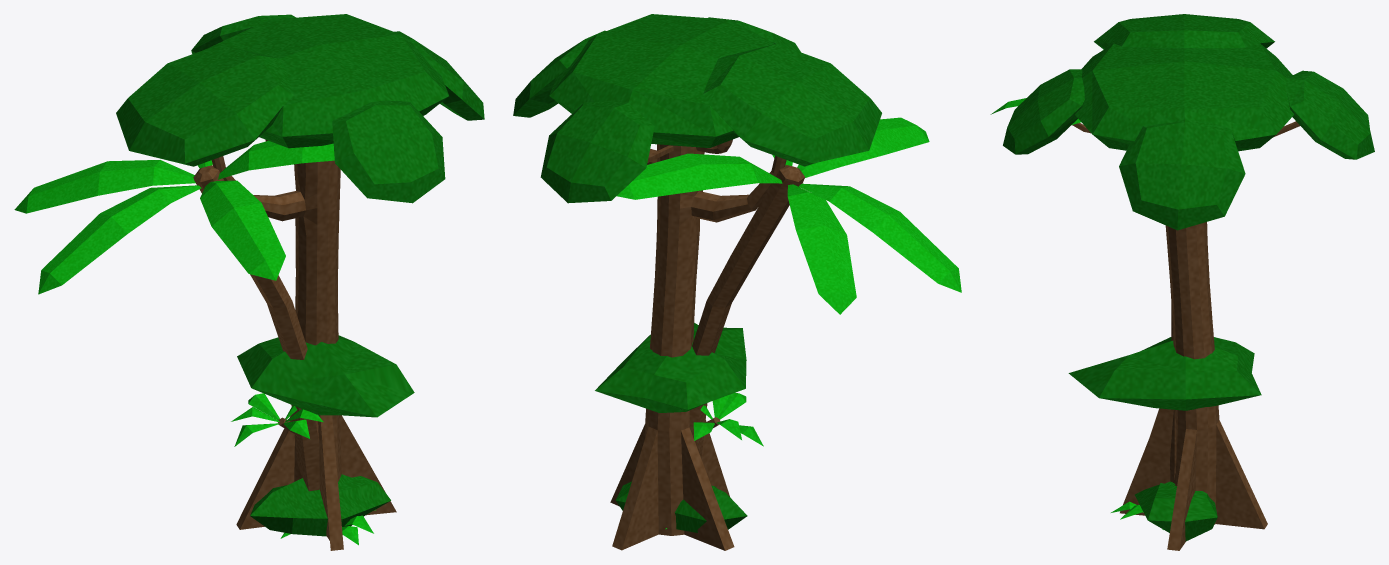
Rendered from Rainforest add on 3.1.fbx.
The picture shows the model from 3 angles, left to right: view 1: azimuth 30°, elevation 25°; view 2: azimuth 150°, elevation 25°; view 3: azimuth 270°, elevation 25°; orthographic projection. The views are drawn at different scales.
Visible parts, largest first — view 1: Tree, Palm tree, Medium Tree, Bush, Medium plant; view 2: Tree, Palm tree, Medium Tree, Bush, Medium plant; view 3: Tree, Medium Tree, Bush.
Boxes of the visible parts, x1,y1,x2,y2 form: Tree: (116, 14, 484, 550); Palm tree: (14, 140, 334, 491); Medium Tree: (237, 335, 414, 417); Bush: (250, 474, 390, 536); Medium plant: (231, 393, 323, 446); Tree: (513, 14, 881, 550); Palm tree: (616, 117, 961, 458); Medium Tree: (595, 323, 746, 412); Bush: (615, 481, 747, 532); Medium plant: (693, 392, 763, 446); Tree: (1003, 14, 1374, 550); Medium Tree: (1068, 337, 1261, 482); Bush: (1135, 481, 1217, 541).
Size of the model in its own units: 1.07 by 1.14 by 0.8588.
